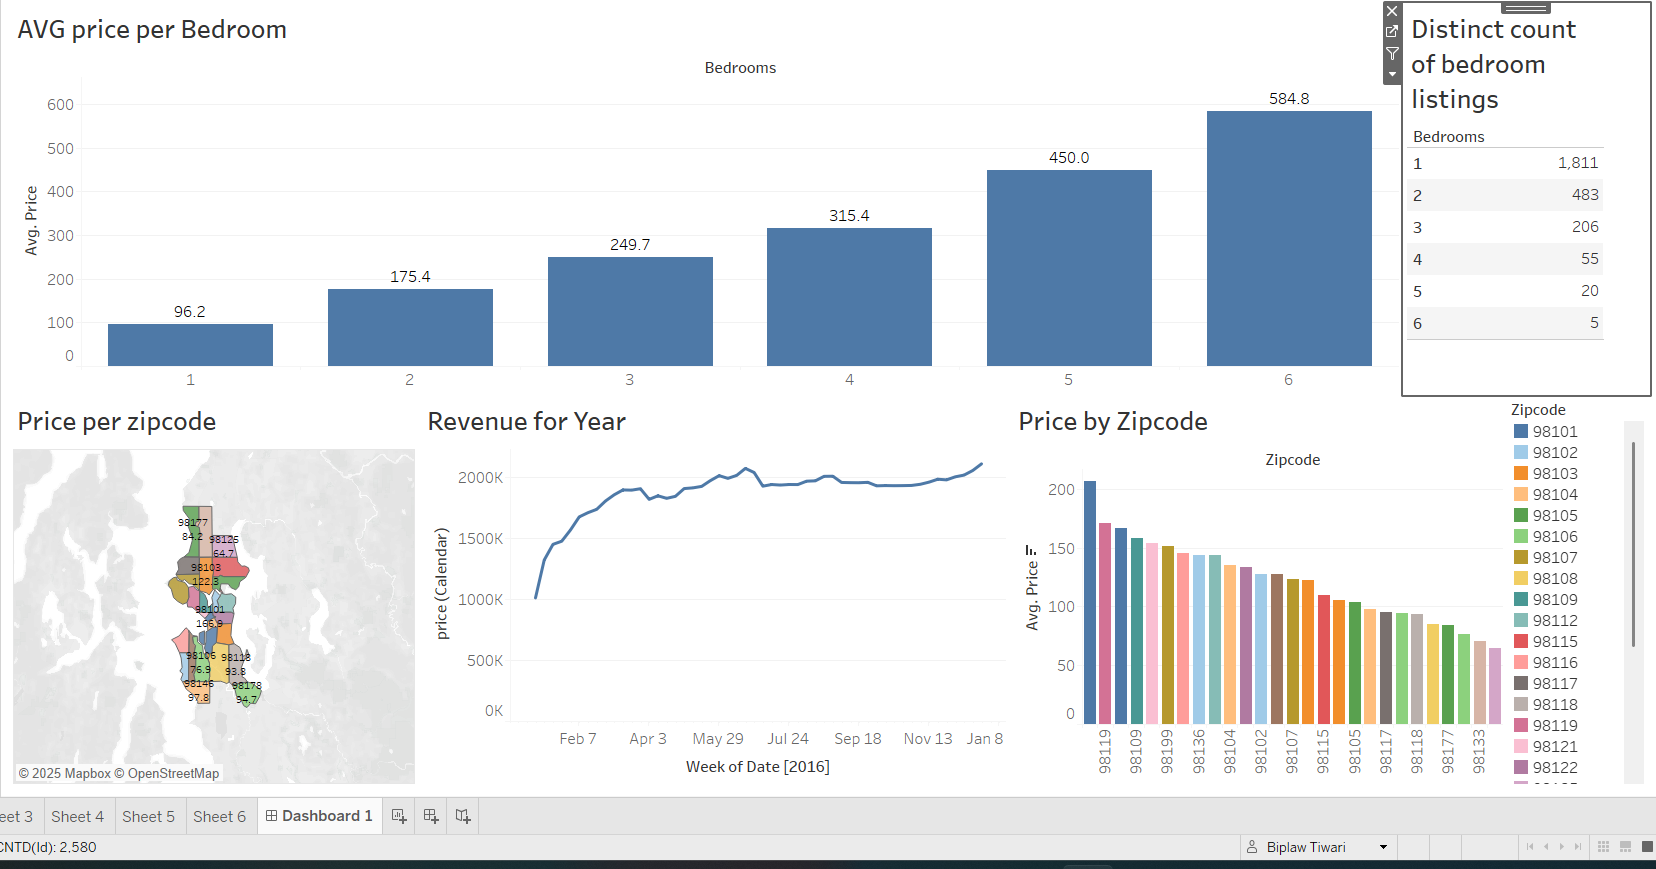

What the dashboard file says about the page in this screenshot:
{"tool":"tableau","page":{"name":"Dashboard 1","canvas":[1000,1000],"units":"permille","ordinal":0},"visuals":[{"type":"worksheet","title":"Sheet 5","mark":"Automatic","rows":["price"],"cols":["bedrooms"],"box":[4.8,10,841.3,490]},{"type":"worksheet","title":"Sheet 6","mark":"Automatic","rows":["bedrooms"],"box":[846.1,10,149.1,490]},{"type":"worksheet","title":"Sheet 3","mark":"Multipolygon","box":[4.8,500,247.6,490]},{"type":"worksheet","title":"Sheet 4","mark":"Automatic","rows":["price (Calendar)"],"cols":["date"],"box":[252.4,500,356.5,490]},{"type":"worksheet","title":"Sheet 2","mark":"Automatic","rows":["price"],"cols":["zipcode"],"box":[608.9,500,300.1,490]},{"type":"legend","title":"Sheet 2","param":"[federated.03piuub0tc5v361ci4ylx1ns4hib].[none:zipcode:ok]","box":[909,500,86.2,490]}]}

Visuals, with their boxes on the dashboard's canvas, which has no fixed pixel size, in thousandths of its width and height (x1, y1, x2, y2). These are canvas units, not pixel positions in the 1656x869 screenshot, which may show the page scaled, cropped or inside an application window:
"Sheet 5" worksheet: [x1=5, y1=10, x2=846, y2=500]
"Sheet 6" worksheet: [x1=846, y1=10, x2=995, y2=500]
"Sheet 3" worksheet (Multipolygon marks): [x1=5, y1=500, x2=252, y2=990]
"Sheet 4" worksheet: [x1=252, y1=500, x2=609, y2=990]
"Sheet 2" worksheet: [x1=609, y1=500, x2=909, y2=990]
"Sheet 2" legend: [x1=909, y1=500, x2=995, y2=990]
